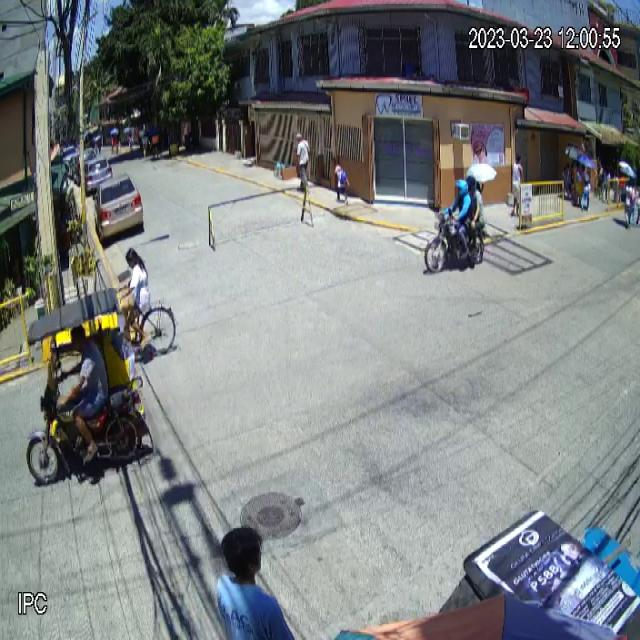Motorcycle: (423, 197, 486, 271)
Tricycle: (25, 286, 148, 492)
